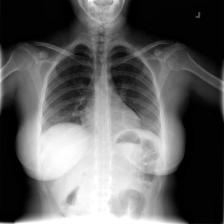normal: (37, 38, 165, 167)
